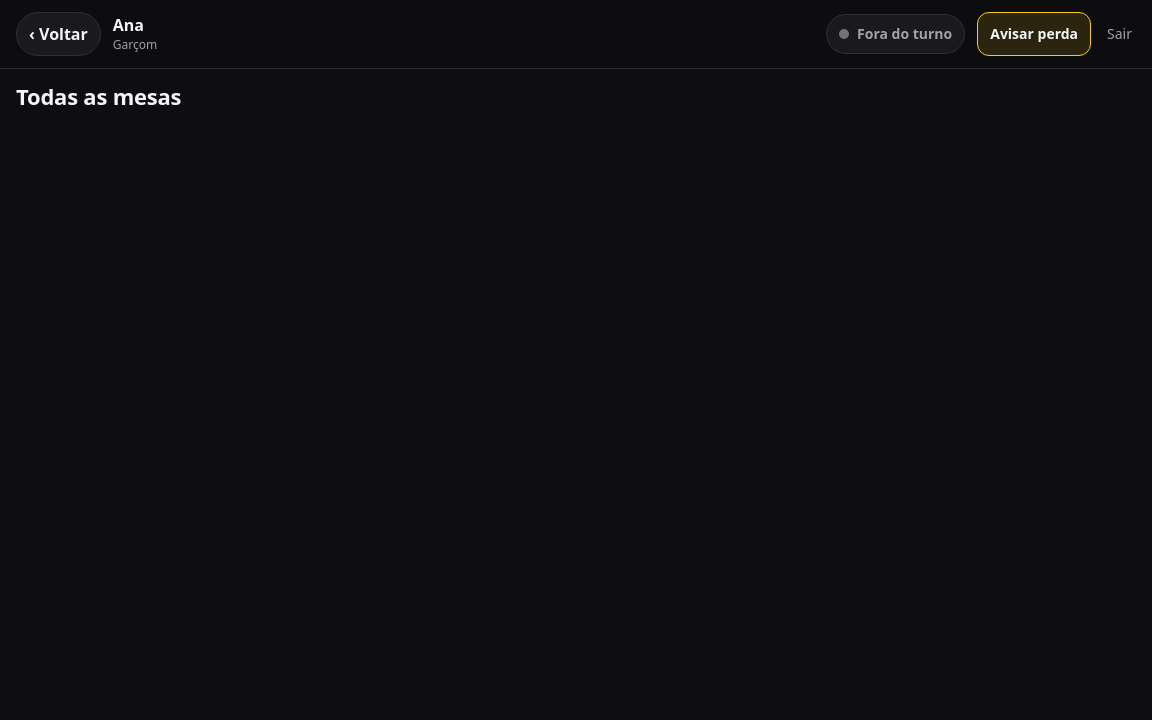
Test: App da equipe › 401 no meio do uso leva ao login com volta
Click the switch named "Em turno": coordinates (896, 34) [826,14,965,54]
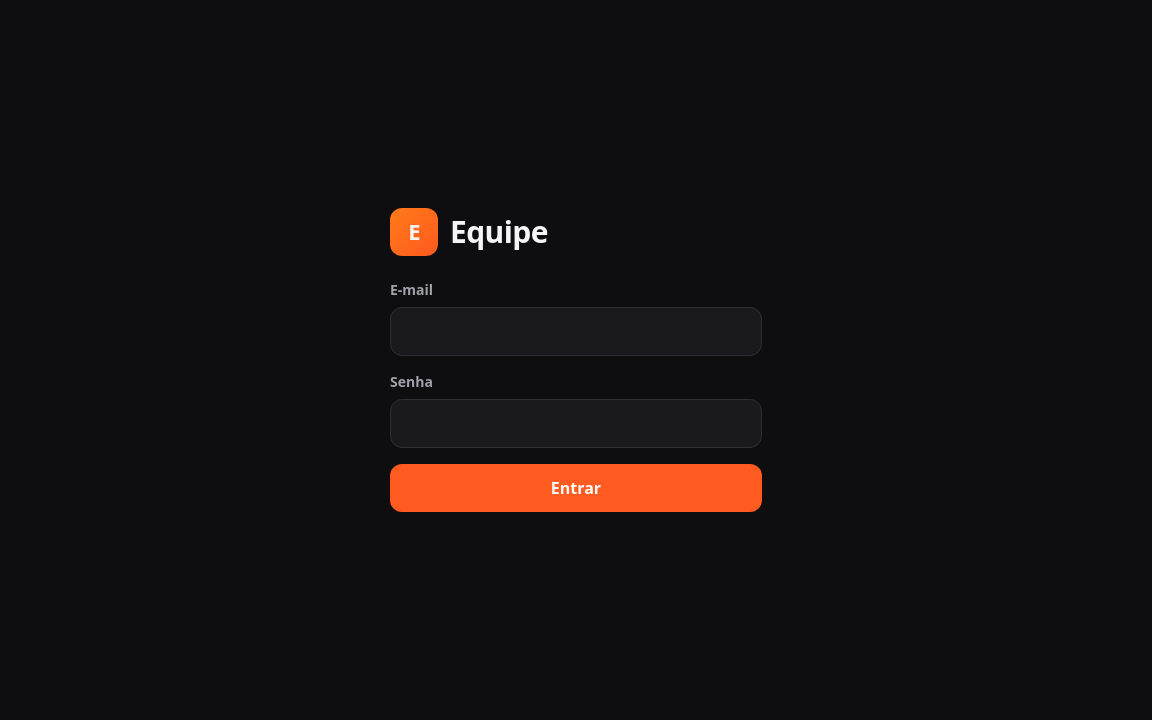
Check: the button "Entrar" is shown, box [390,464,762,512]
